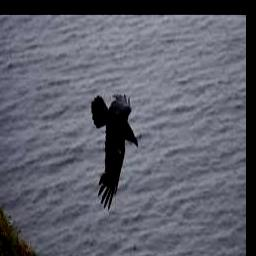Crow: (91, 91, 139, 210)
